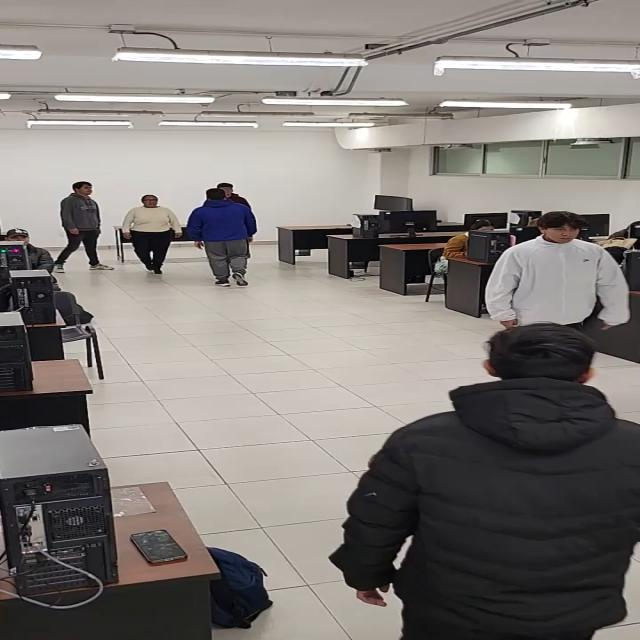Persona: (324, 321, 639, 640), (485, 212, 640, 335), (187, 188, 259, 287), (49, 181, 118, 274), (117, 193, 184, 276)
